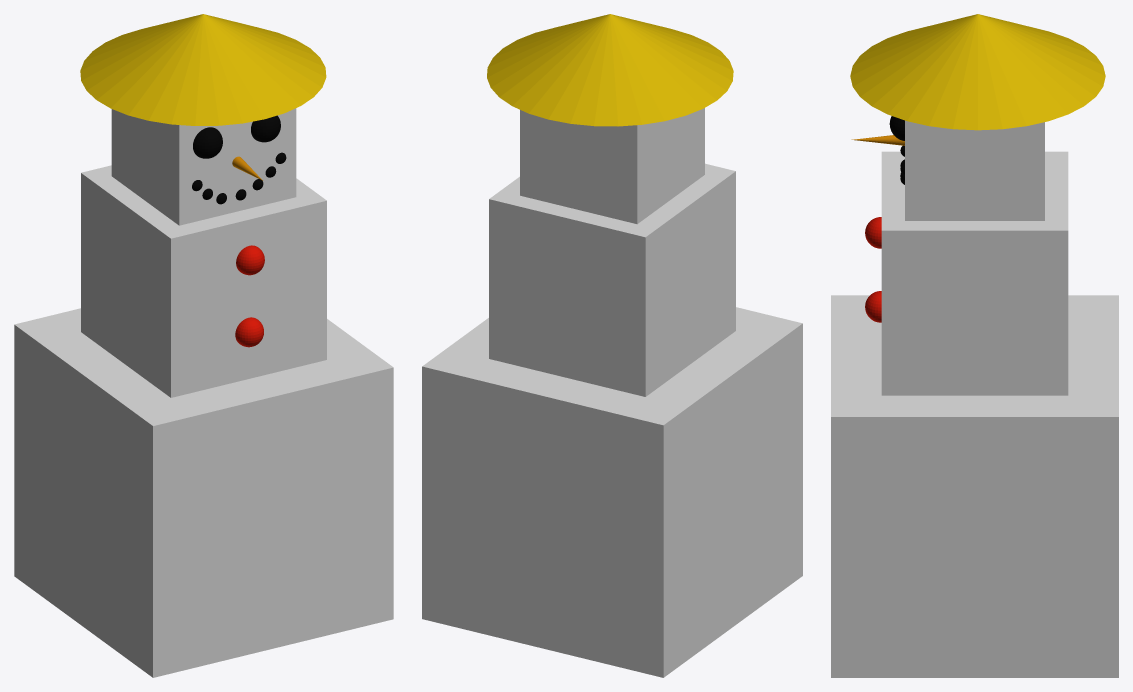
File: snowman.fbx
3 renders of one model, left to right at view 1: azimuth 30°, elevation 25°; view 2: azimuth 150°, elevation 25°; view 3: azimuth 270°, elevation 25°, orthographic. The views are drawn at different scales.
Parts seen in each view (by area): view 1: Cube; view 2: Cube; view 3: Cube.
Boxes of the visible parts, left/top/right/bottom form: Cube: left=14, top=14, right=393, bottom=677; Cube: left=422, top=14, right=802, bottom=677; Cube: left=831, top=14, right=1118, bottom=677.
Size of the model in its own units: 350 by 809 by 350.
